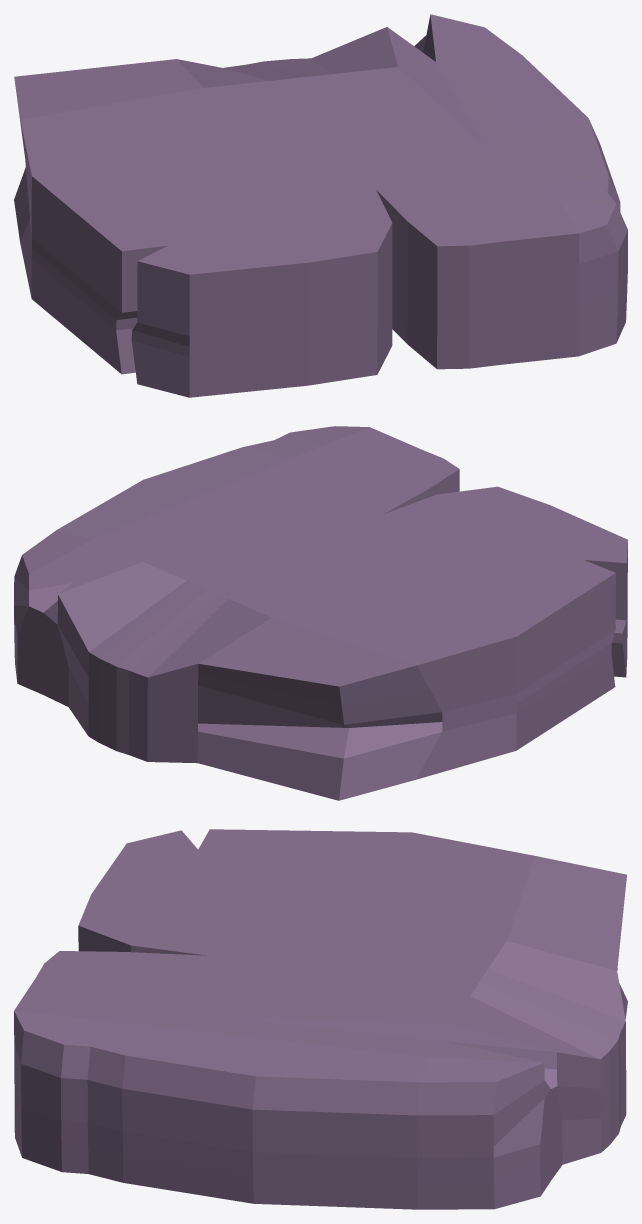
3 views of the same model, one above another, from view 1: azimuth 30°, elevation 25°; view 2: azimuth 150°, elevation 25°; view 3: azimuth 270°, elevation 25° (orthographic). The views are drawn at different scales.
Visible parts, largest first — view 1: Cube.010; view 2: Cube.010; view 3: Cube.010.
Boxes of the visible parts, x1=… form: Cube.010: x1=14, y1=14, x2=627, y2=397; Cube.010: x1=14, y1=426, x2=627, y2=800; Cube.010: x1=14, y1=829, x2=627, y2=1209.
Bounding box in the file's own units: 80.11 × 19.8 × 80.88.
